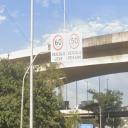speed_limit_50: (69, 33, 80, 49)
speed_limit_60: (53, 35, 63, 50)
